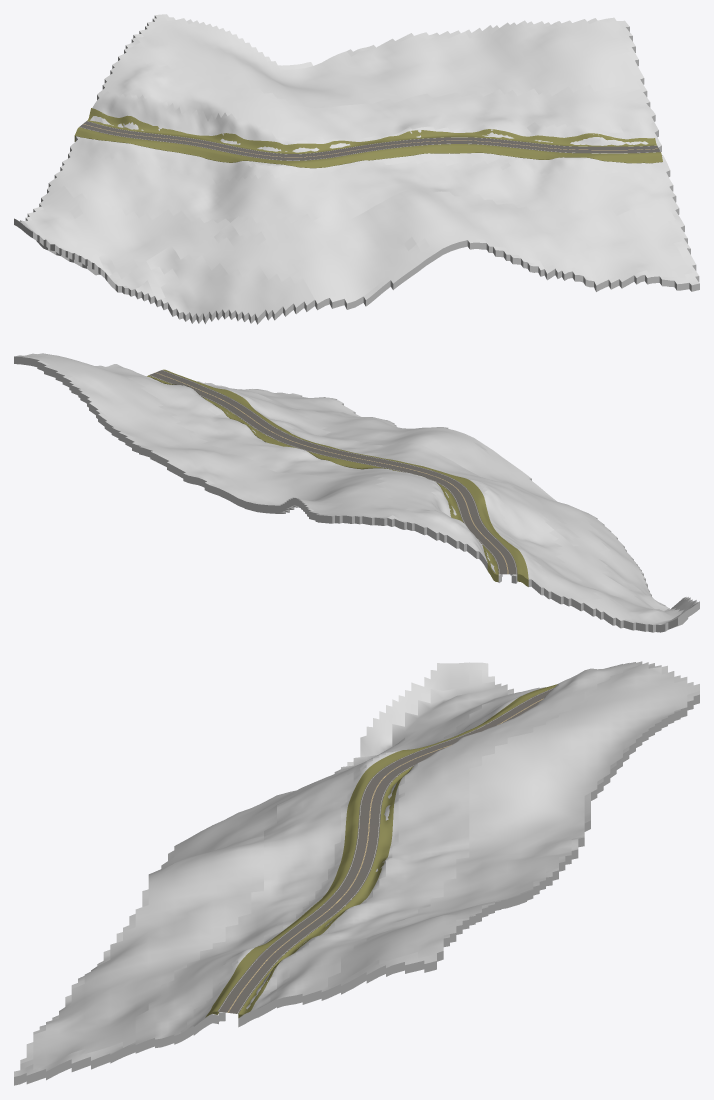
The model's file is conz_174.glb.
The picture shows the model from 3 angles, top to bottom: view 1: azimuth 30°, elevation 25°; view 2: azimuth 150°, elevation 25°; view 3: azimuth 270°, elevation 25°; orthographic projection. The views are drawn at different scales.
Parts seen in each view (by area): view 1: terrain174, verge174L, road174, verge174R; view 2: terrain174, road174, verge174L, verge174R, paint_white174; view 3: terrain174, road174, verge174L, verge174R, paint_white174.
Boxes of the visible parts, box(x1,y1,x2,y2) form: terrain174: box(14, 14, 699, 324); verge174L: box(74, 127, 662, 168); road174: box(79, 121, 660, 160); verge174R: box(87, 108, 656, 153); terrain174: box(14, 353, 699, 632); road174: box(149, 370, 517, 574); verge174L: box(163, 369, 528, 586); verge174R: box(147, 375, 498, 581); paint_white174: box(149, 370, 516, 573); terrain174: box(14, 661, 699, 1085); road174: box(217, 687, 554, 1013); verge174L: box(205, 684, 557, 1017); verge174R: box(238, 766, 413, 1017); paint_white174: box(218, 688, 552, 1013).
Bounding box in the file's own units: 286 × 75.82 × 214.
